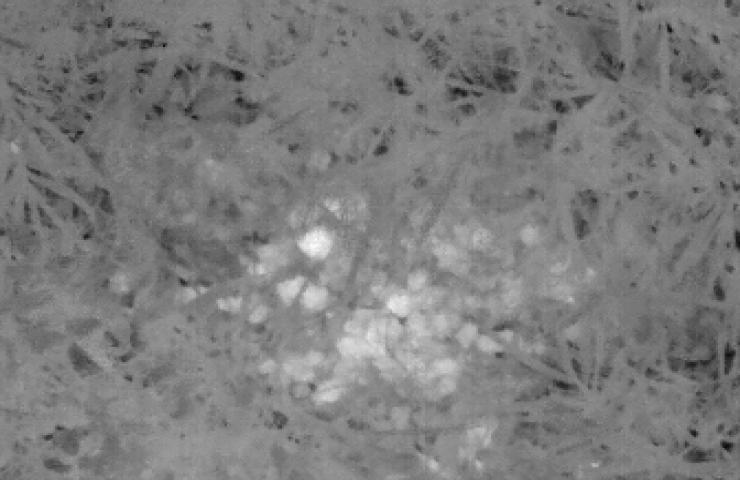landmines: (213, 191, 552, 411)
